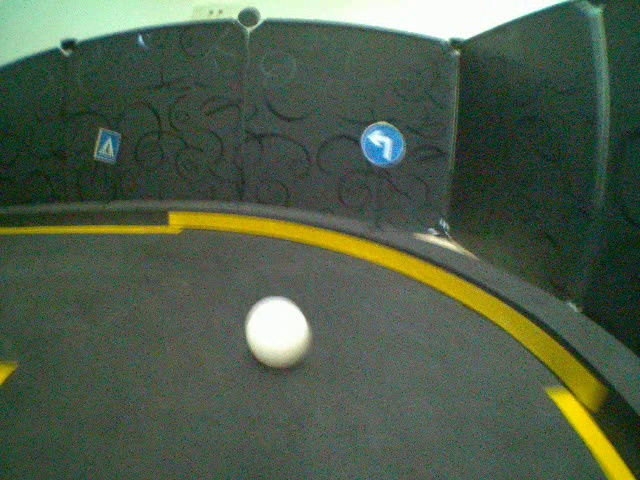ball: (245, 295, 313, 368)
